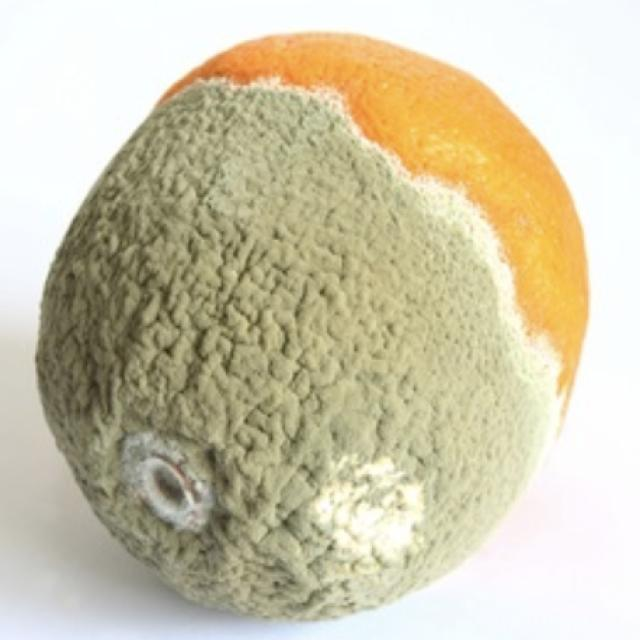sangat-busuk: (36, 33, 587, 620)
